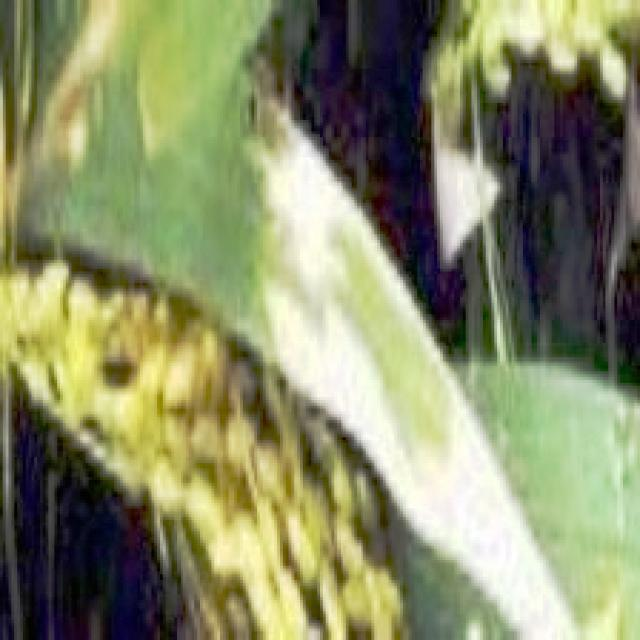unhealth: (0, 0, 424, 636)
